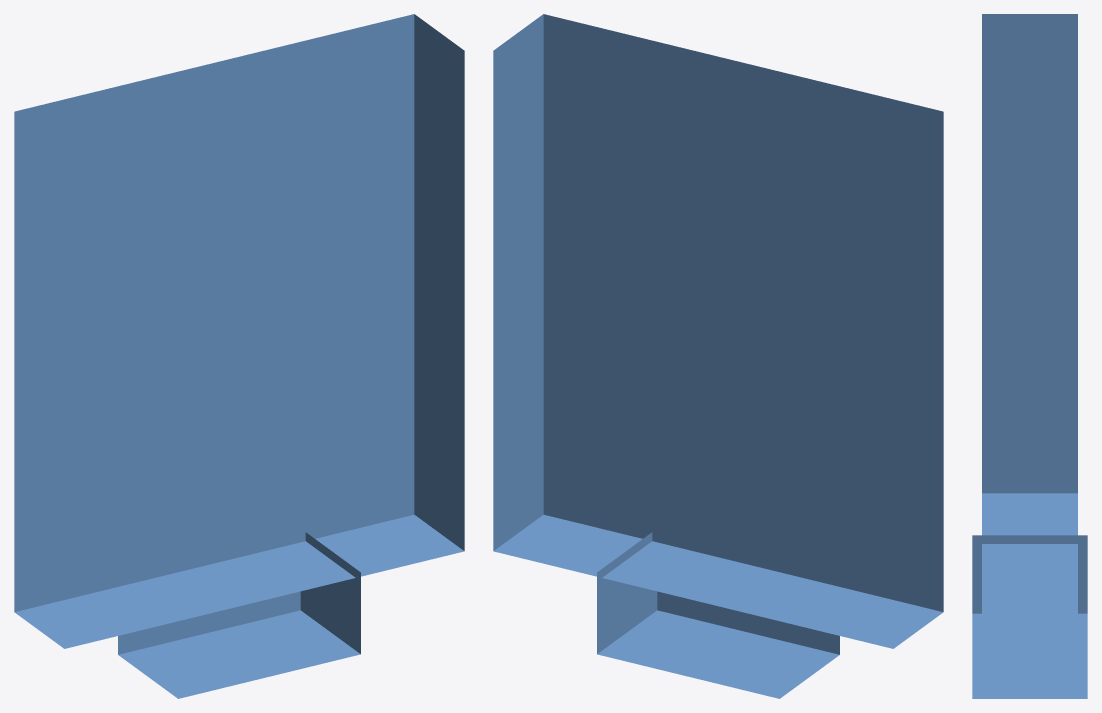
File: shield.gltf
3 renders of one model, left to right at view 1: azimuth 30°, elevation 25°; view 2: azimuth 150°, elevation 25°; view 3: azimuth 270°, elevation 25°, orthographic. The views are drawn at different scales.
Parts seen in each view (by area): view 1: Shield; view 2: Shield; view 3: Shield.
Boxes of the visible parts, x1=… form: Shield: x1=14, y1=14, x2=464, y2=698; Shield: x1=493, y1=14, x2=943, y2=698; Shield: x1=972, y1=14, x2=1087, y2=698.
Bounding box in the file's own units: 0.92 × 1.26 × 0.24.
